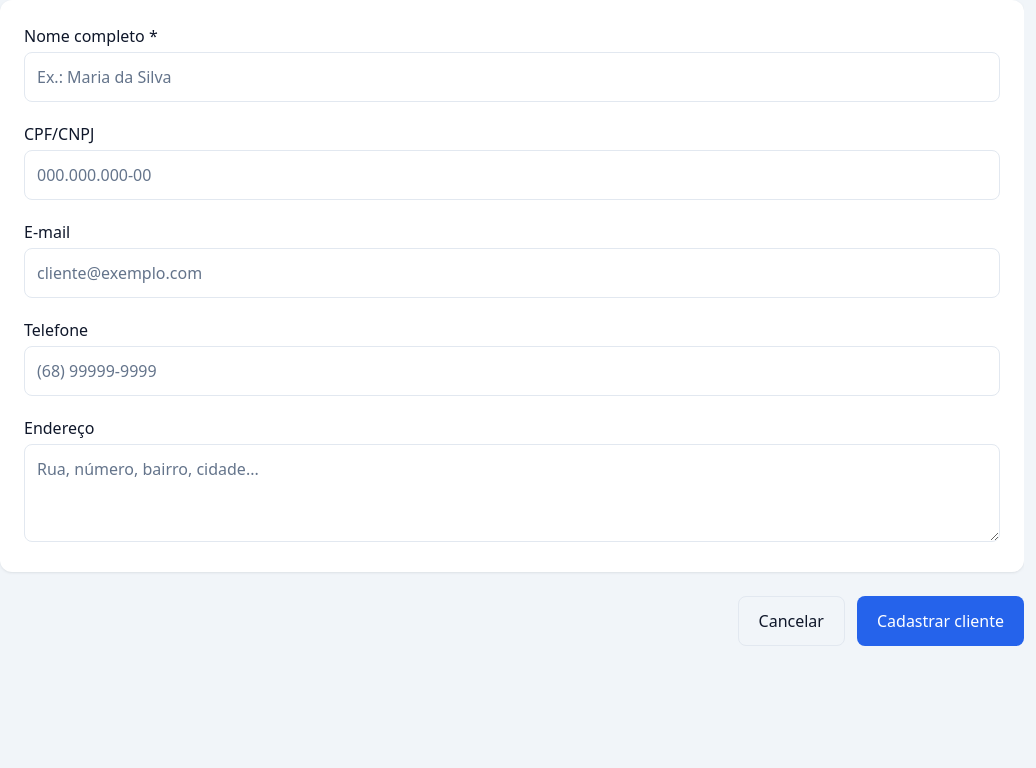
CustomerForm › documento com tamanho inválido é recusado antes de enviar
The width and height of the screenshot is (1036, 768).
Type "123" into the field labelled "CPF/CNPJ" at (512, 175), box top-left (24, 150), bottom-right (1000, 200)
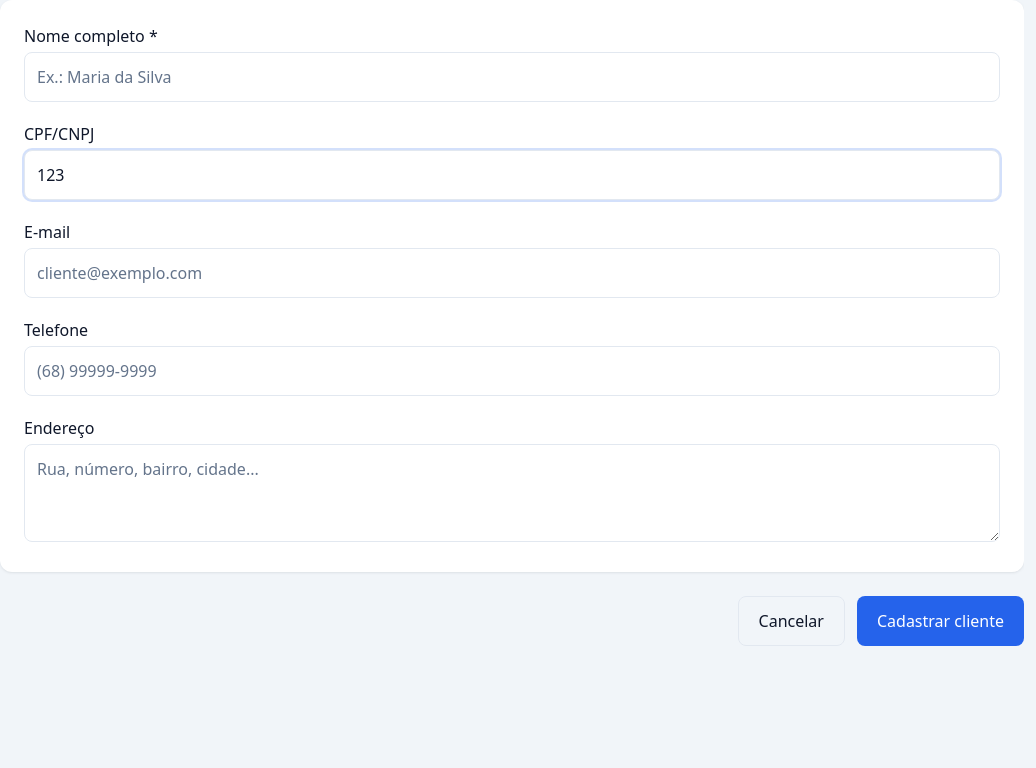
Type "Maria" into the field labelled "Nome completo *" at (512, 77), box top-left (24, 52), bottom-right (1000, 102)
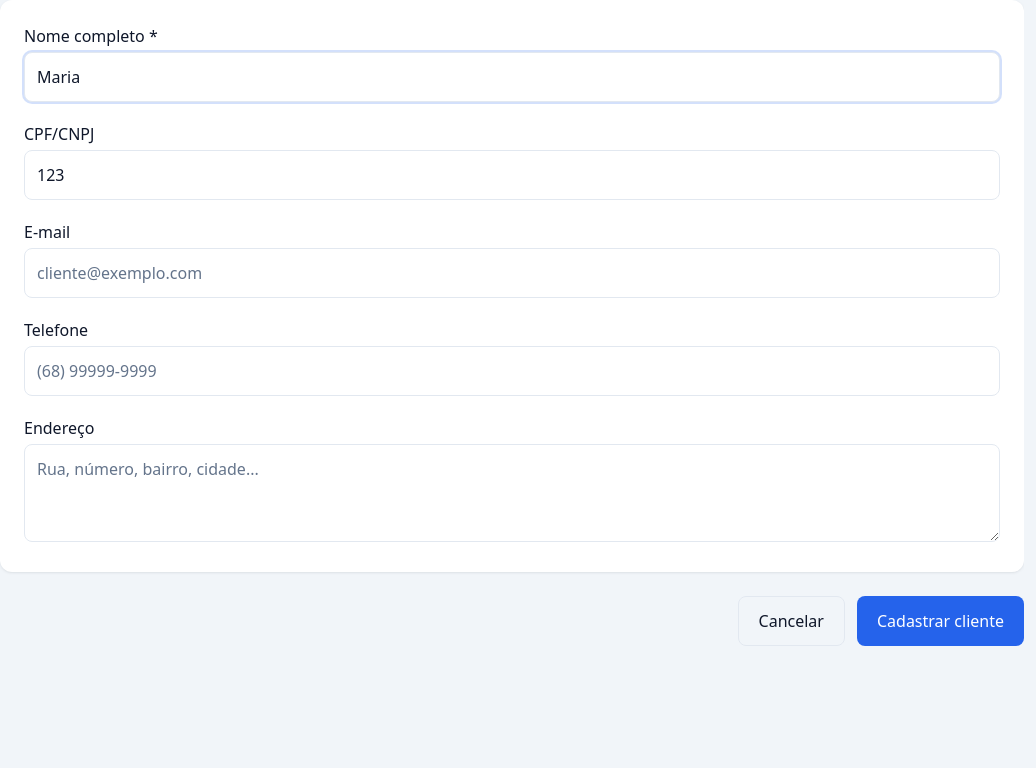
Click the button "Cadastrar cliente" at (940, 621), box top-left (857, 596), bottom-right (1024, 646)
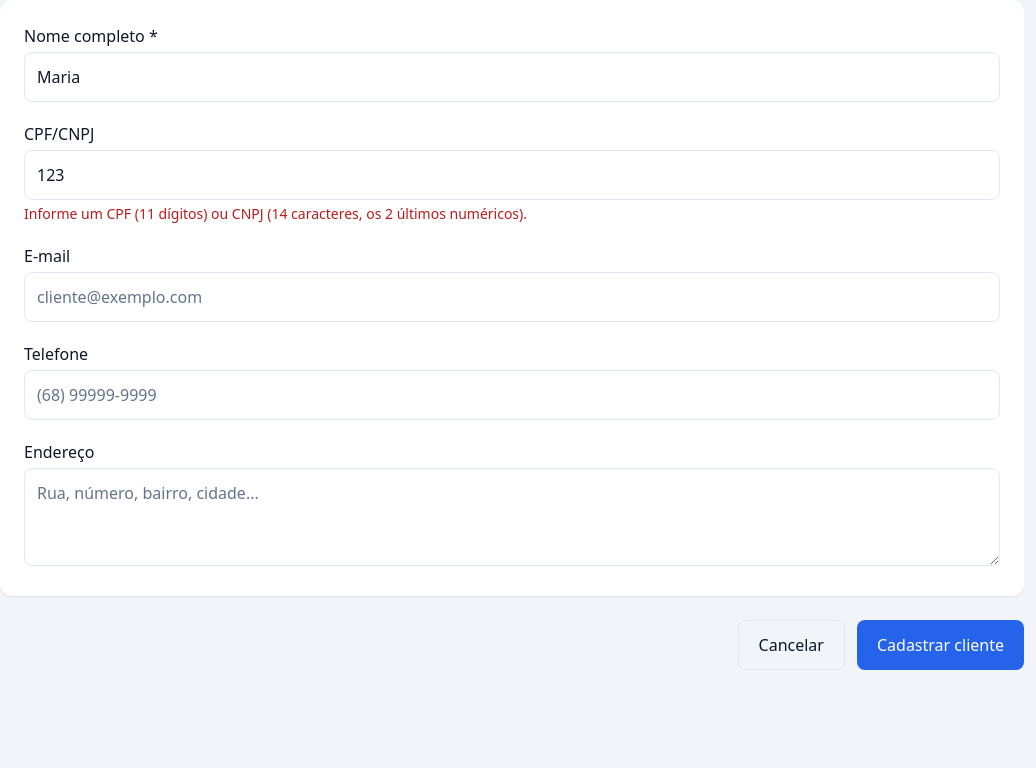
Now the text "Informe um CPF (11 dígitos) ou CNPJ" is shown, box top-left (24, 204), bottom-right (527, 223)
